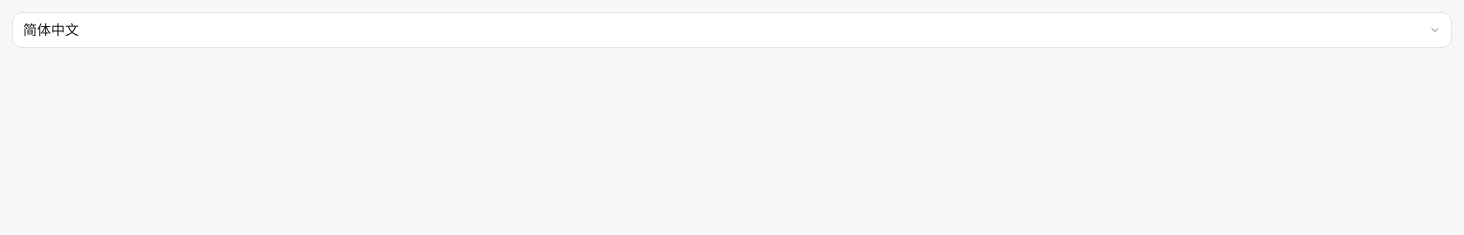
Test: Select › 键盘：Escape 关闭面板但不改变选择
The image size is (1464, 235).
Click the button at (51, 30), box 12,12 -> 1452,48
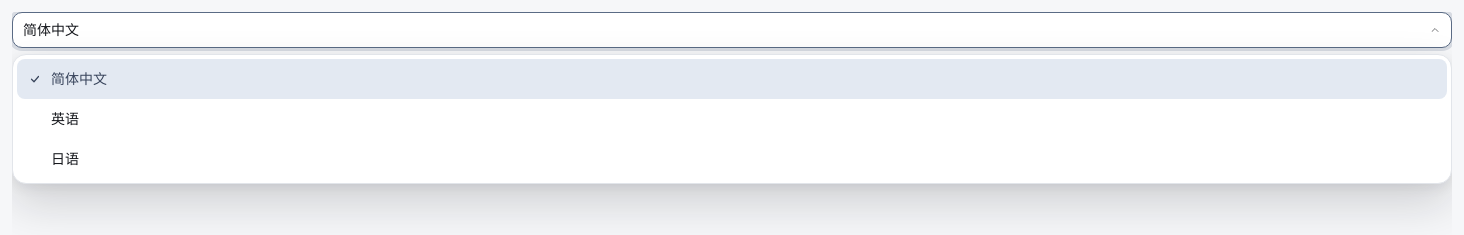
expect the list is shown: met, box 12,54 -> 1452,184
Press Escape
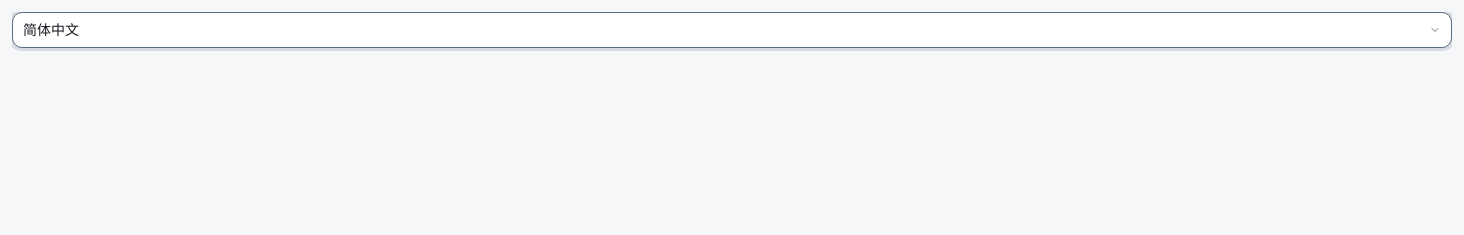
expect the list is gone: met
